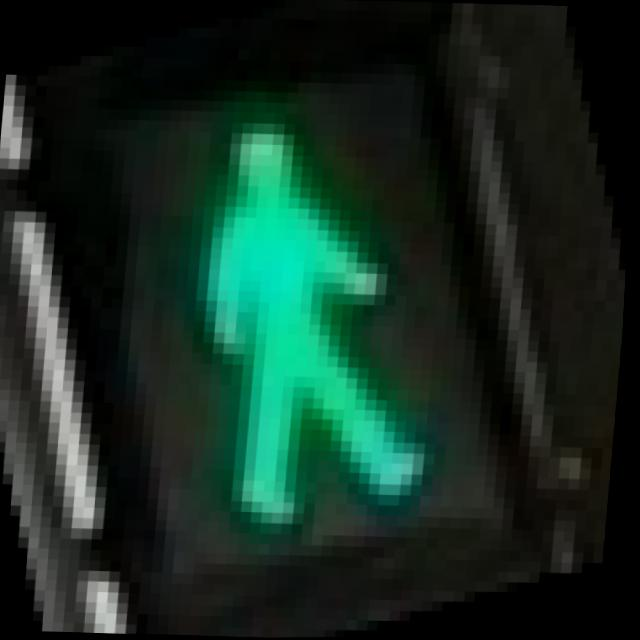green_light: (126, 86, 517, 572)
